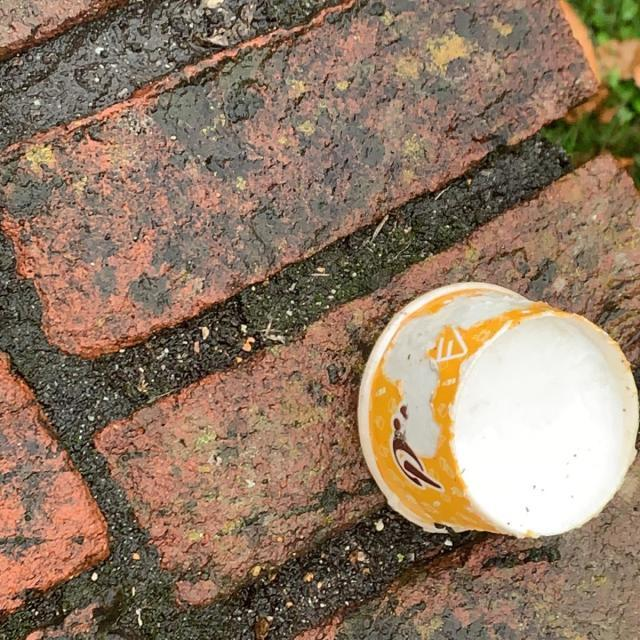Paper: (352, 279, 640, 544)
